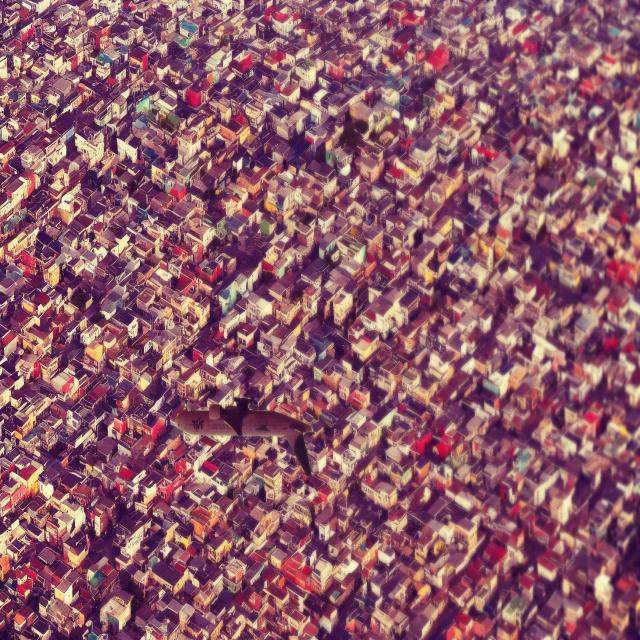airplane: (168, 398, 315, 478)
